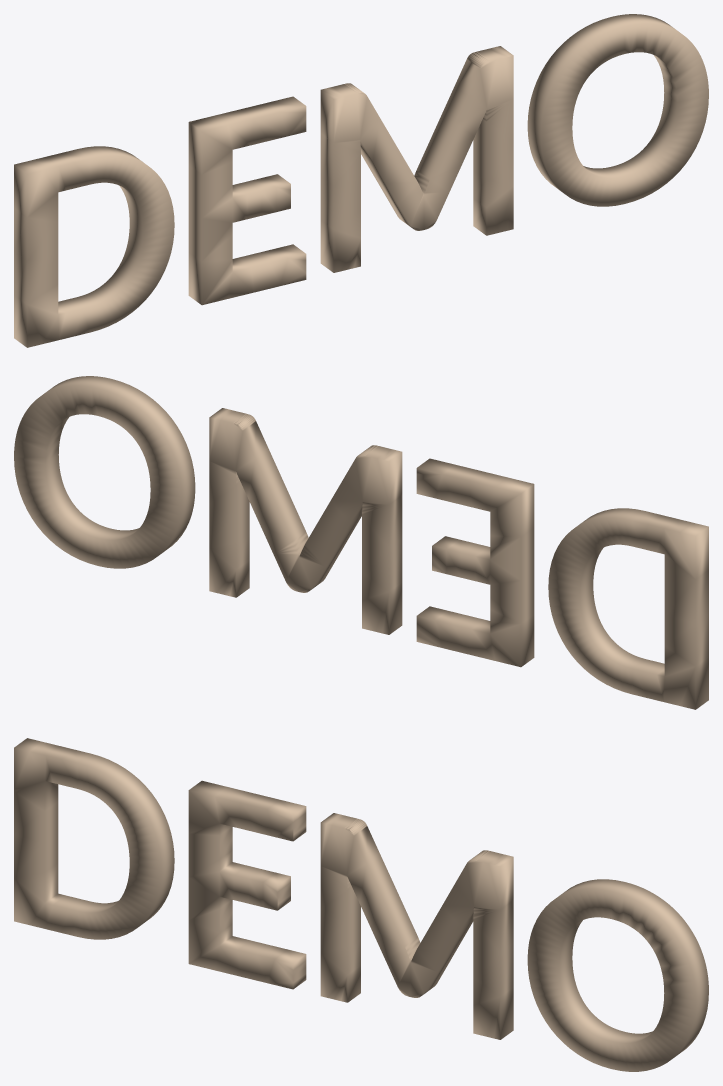
File: demo.dae
3 renders of one model, top to bottom at view 1: azimuth 30°, elevation 25°; view 2: azimuth 150°, elevation 25°; view 3: azimuth 330°, elevation 25°, orthographic.
Parts seen in each view (by area): view 1: text5-0; view 2: text5-0; view 3: text5-0.
Boxes of the visible parts, x1=… form: text5-0: x1=14, y1=14, x2=708, y2=347; text5-0: x1=14, y1=376, x2=708, y2=709; text5-0: x1=14, y1=738, x2=708, y2=1071.
Bounding box in the file's own units: 5.94 × 1.48 × 0.2.
